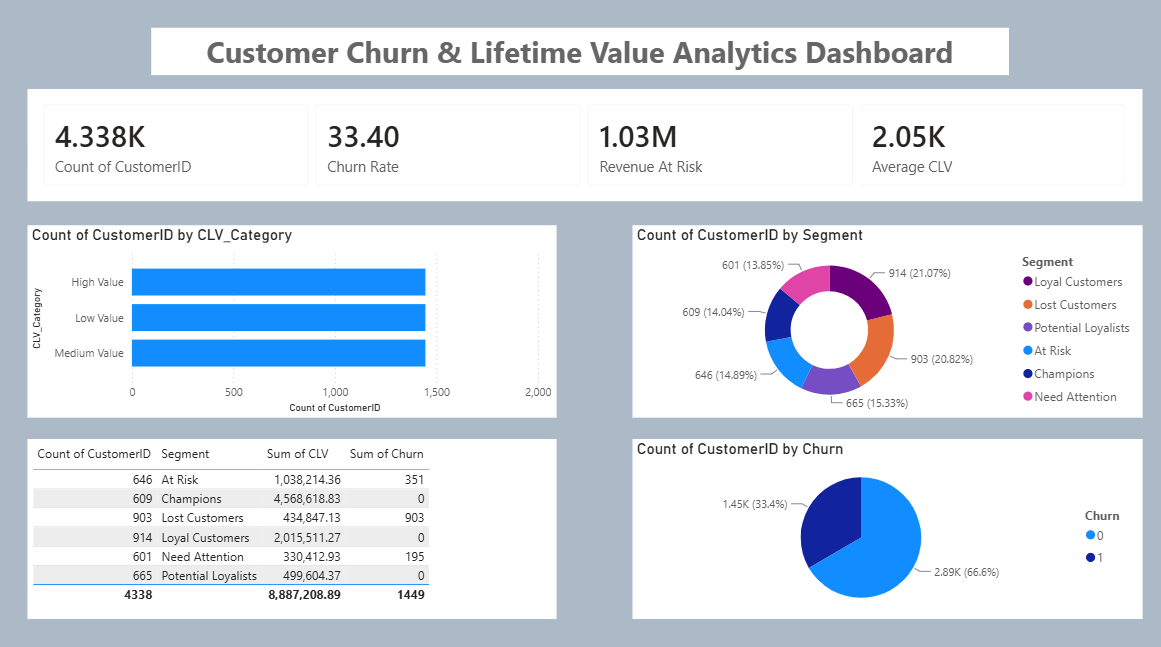

This screenshot's page, from the dashboard's own definition file:
{"tool":"powerbi","page":{"name":"Page 1","canvas":[1280,720],"ordinal":0},"visuals":[{"type":"cardVisual","fields":{"Data":["CountNonNull(customer_churn_dashboard.CustomerID)","customer_churn_dashboard.Churn Rate","customer_churn_dashboard.Revenue At Risk","customer_churn_dashboard.Average CLV"]},"box":[30.2,104.3,1224,123.5],"z":0},{"type":"donutChart","fields":{"Category":["customer_churn_dashboard.Segment"],"Y":["CountNonNull(customer_churn_dashboard.CustomerID)"]},"box":[694.3,253.9,559.9,211.3],"z":1},{"type":"clusteredBarChart","fields":{"Category":["customer_churn_dashboard.CLV_Category"],"Y":["CountNonNull(customer_churn_dashboard.CustomerID)"]},"box":[30.2,253.9,580.4,211.3],"z":2},{"type":"pieChart","fields":{"Category":["customer_churn_dashboard.Churn"],"Y":["CountNonNull(customer_churn_dashboard.CustomerID)"]},"box":[694.3,488.5,559.9,197.6],"z":3},{"type":"tableEx","fields":{"Values":["CountNonNull(customer_churn_dashboard.CustomerID)","customer_churn_dashboard.Segment","Sum(customer_churn_dashboard.CLV)","Sum(customer_churn_dashboard.Churn)"]},"box":[30.2,488.5,580.4,197.6],"z":4},{"type":"textbox","box":[166,37,941.3,52.1],"z":5}]}

Visuals, with their boxes in screenshot pixels (x1, y1, x2, y2), scaled from the page's 1280x720 canvas onto the 1161x647 screenshot:
cardVisual - CountNonNull(customer_churn_dashboard.CustomerID) x customer_churn_dashboard.Churn Rate: (27, 94, 1138, 205)
donutChart - customer_churn_dashboard.Segment x CountNonNull(customer_churn_dashboard.CustomerID): (630, 228, 1138, 418)
clusteredBarChart - customer_churn_dashboard.CLV_Category x CountNonNull(customer_churn_dashboard.CustomerID): (27, 228, 554, 418)
pieChart - customer_churn_dashboard.Churn x CountNonNull(customer_churn_dashboard.CustomerID): (630, 439, 1138, 617)
tableEx - CountNonNull(customer_churn_dashboard.CustomerID) x customer_churn_dashboard.Segment: (27, 439, 554, 617)
textbox: (151, 33, 1004, 80)
